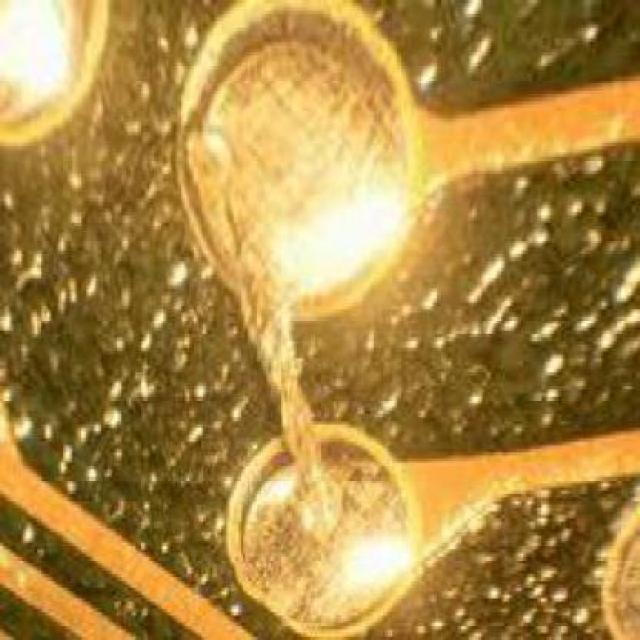Soldering shorted: (168, 0, 417, 620)
